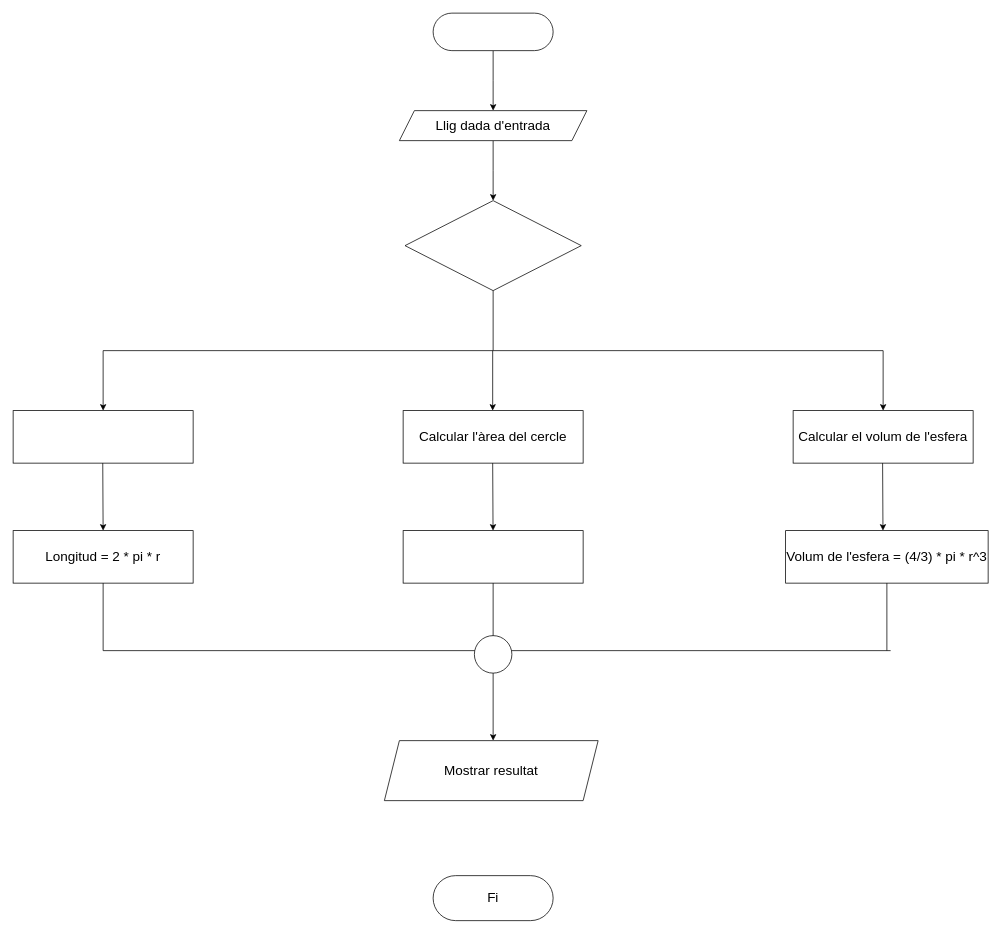
Some shapes in this 1001 by 934 pixel diagram are drawn without their labels. The shapes that lost their labels are listed below. From the top down, each one's box as (x1, y1, x2, y2) in pixels, then its label:
(432, 12, 553, 51): Inici
(404, 200, 581, 291): Dada d'entrada = r
(12, 410, 193, 463): Calcular la longitud de la circumferència
(402, 530, 583, 583): Àrea del cercle = pi * r^2
